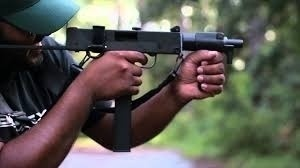pistol: (64, 25, 241, 84)
